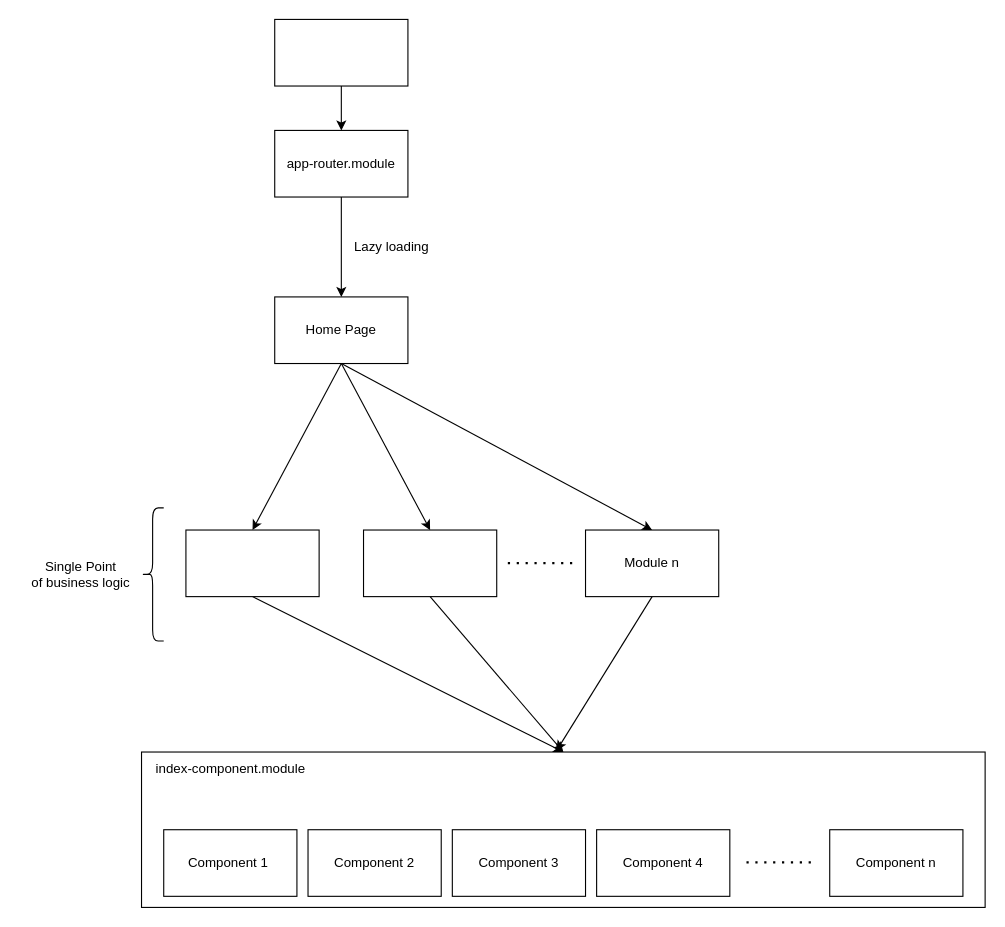
This 1005x927 diagram has some shape labels left out. Here are the shapes that lost their labels. From the top down, the centre of each, then its label:
[341,52]: App.module
[252,563]: Module 1
[429,563]: Module 2
